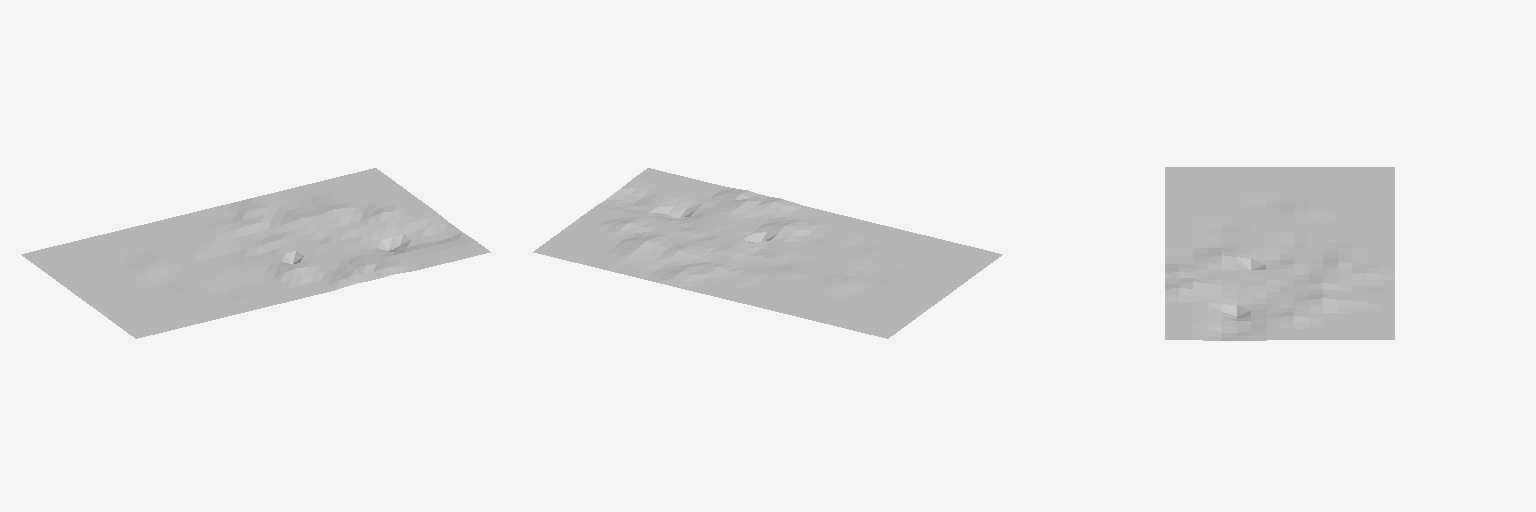
File: terrain.obj
The picture shows the model from 3 angles: view 1: azimuth 30°, elevation 25°; view 2: azimuth 150°, elevation 25°; view 3: azimuth 270°, elevation 25°; orthographic projection.
Parts seen in each view (by area): view 1: Middle_earth_map.001; view 2: Middle_earth_map.001; view 3: Middle_earth_map.001.
Boxes of the visible parts, x1=… form: Middle_earth_map.001: x1=21, y1=168, x2=490, y2=338; Middle_earth_map.001: x1=533, y1=168, x2=1002, y2=338; Middle_earth_map.001: x1=1165, y1=167, x2=1394, y2=340.
Size of the model in its own units: 80.01 by 2.87 by 45.